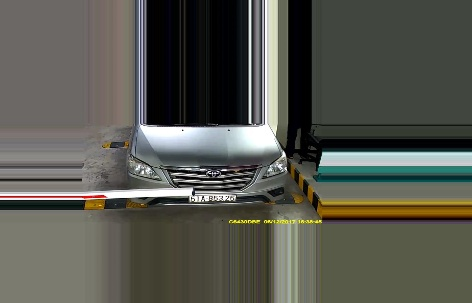plate: (187, 193, 237, 205)
